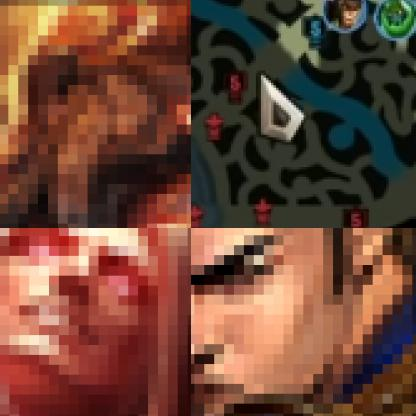Brand: (0, 0, 190, 227)
Cassiopeia: (321, 0, 370, 35)
Vladimir: (0, 228, 190, 415)
Xin Zhao: (191, 228, 415, 415)
Zac: (373, 0, 415, 41)
